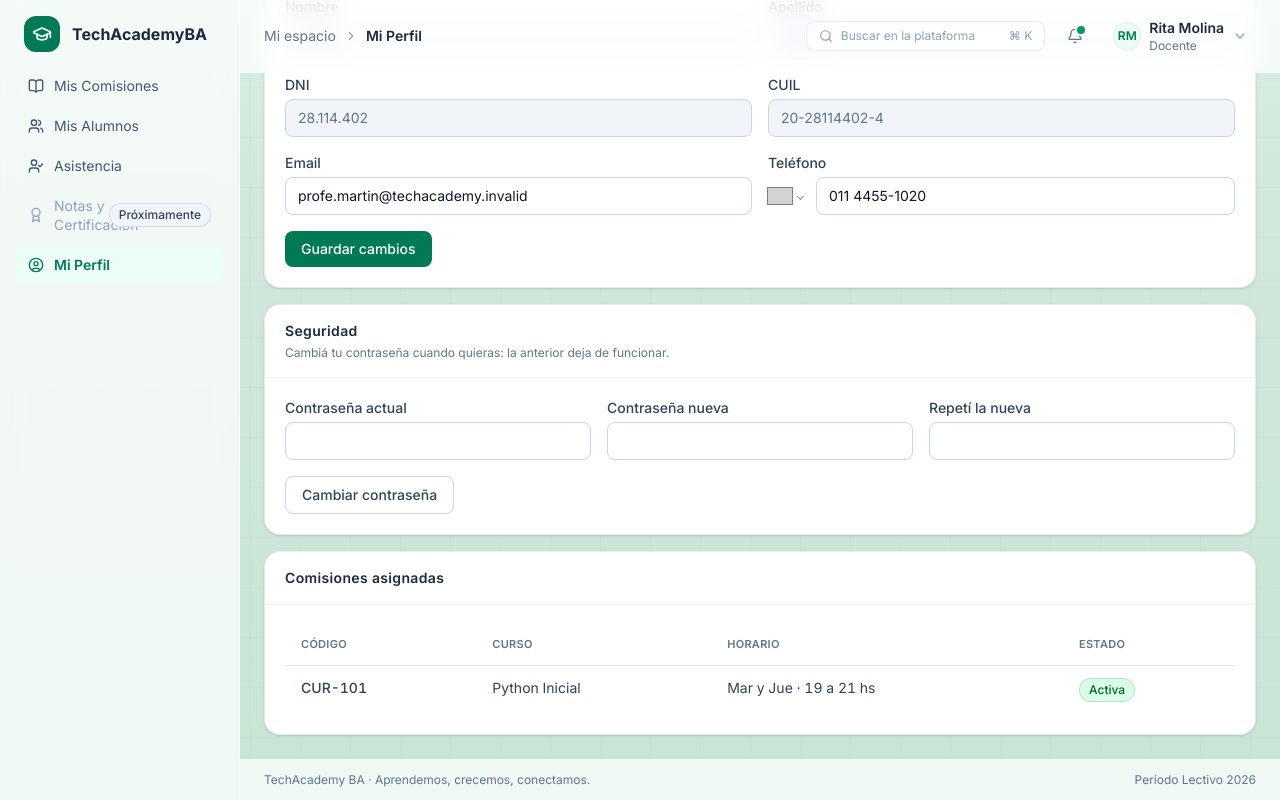
seguridad › muestra el error cuando la contraseña actual es incorrecta
(page scrolled)
Expected: the field showing "profe.martin@techacademy.invalid" is shown, [285,177,752,215]
Step 1. Type "Incorrecta123!" into the password field labelled "Contraseña actual" → (438,441), box [285,422,591,460]
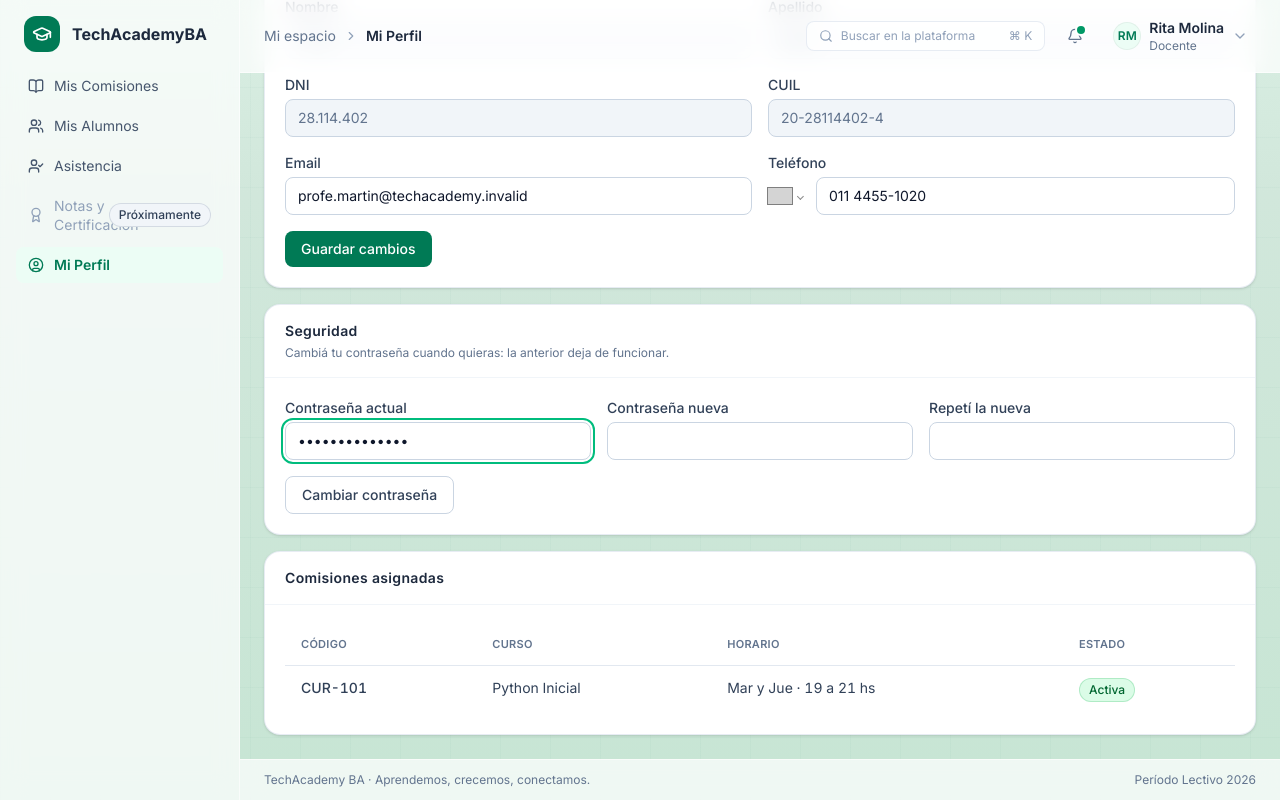
Step 2. Type "NuevaClave123!" into the password field labelled "Contraseña nueva" → (760,441), box [607,422,913,460]
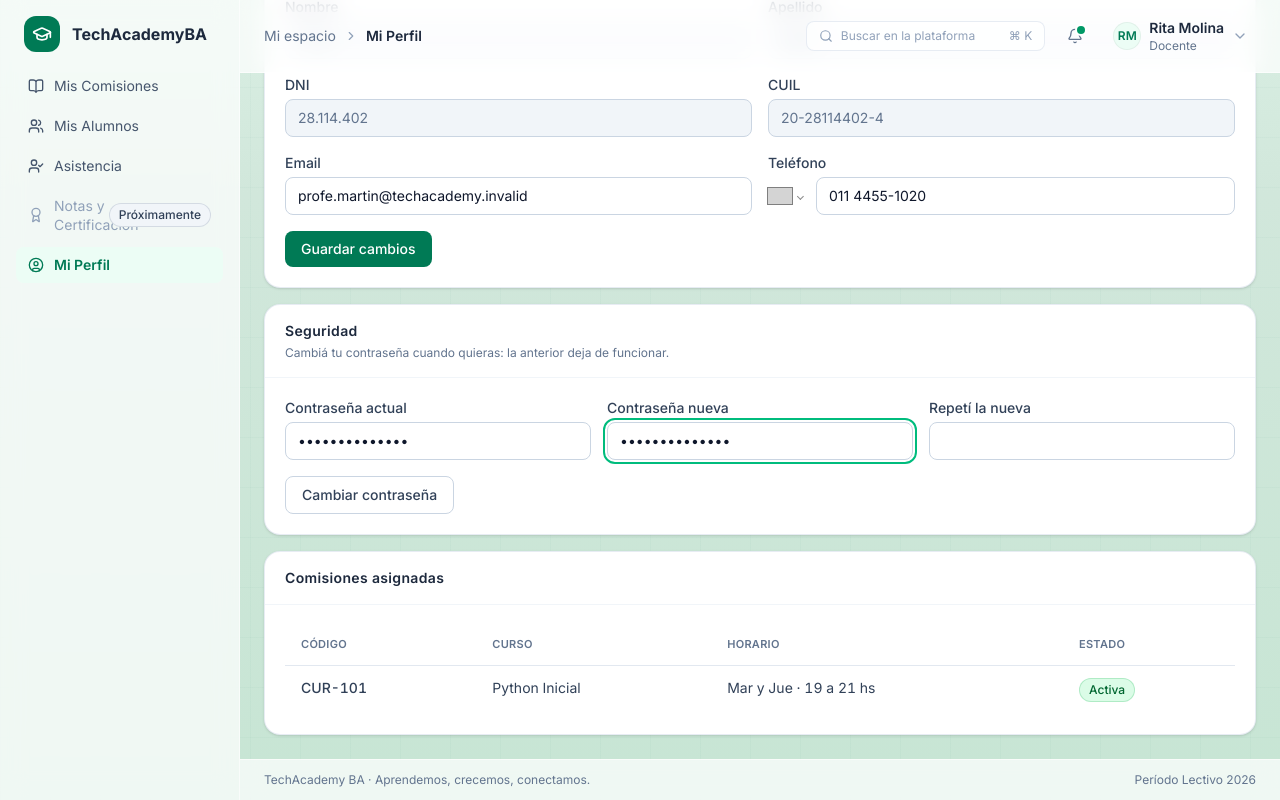
Step 3. Type "NuevaClave123!" into the password field labelled "Repetí la nueva" → (1082,441), box [929,422,1235,460]
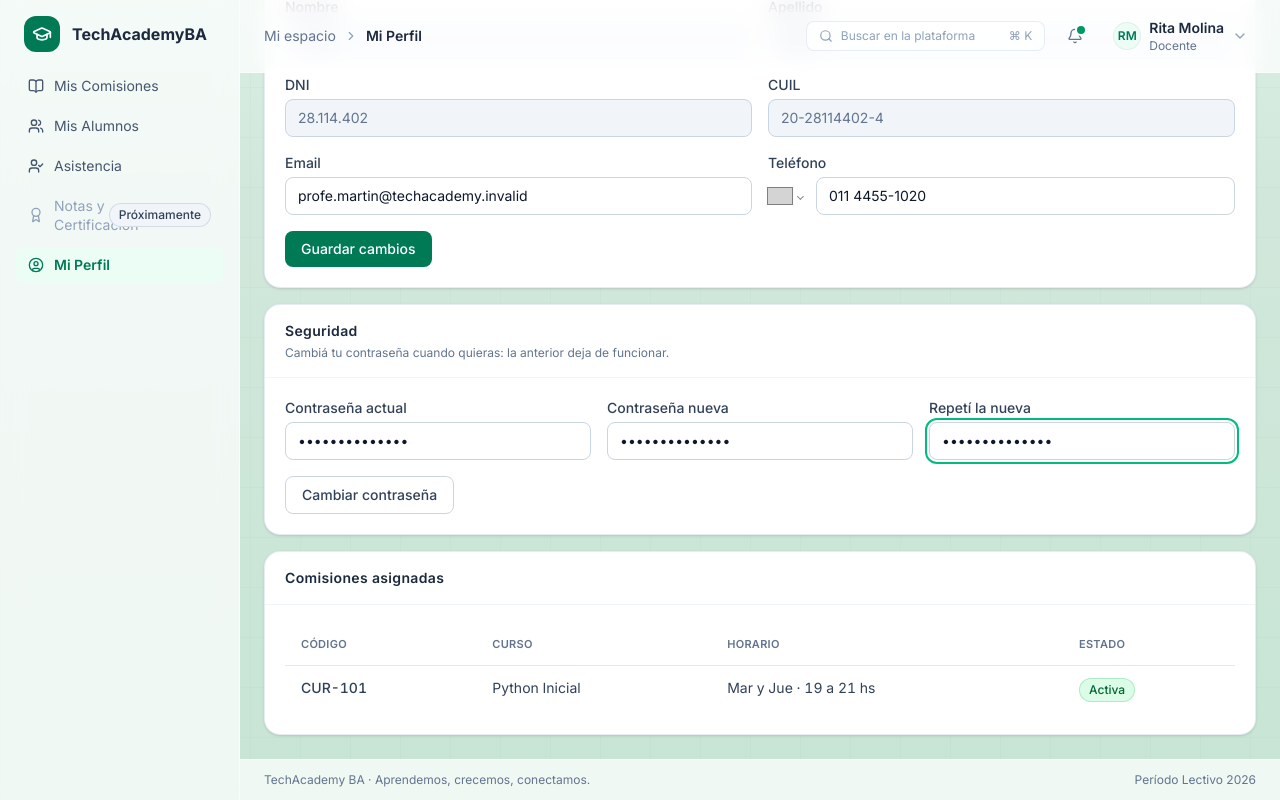
Step 4. Click the button "Cambiar contraseña" → (370,495), box [285,476,454,514]
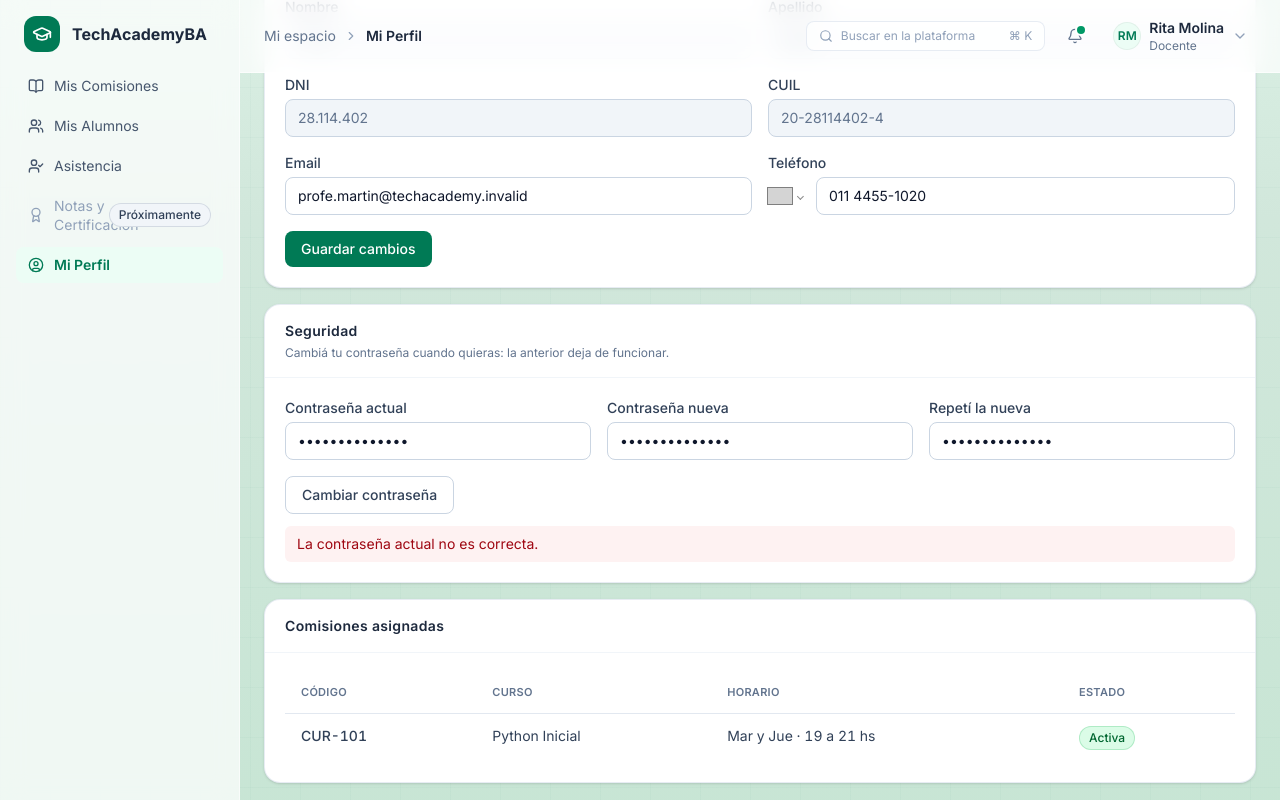
Result: the message reads "La contraseña actual no es correcta." at [297,535,538,552]
